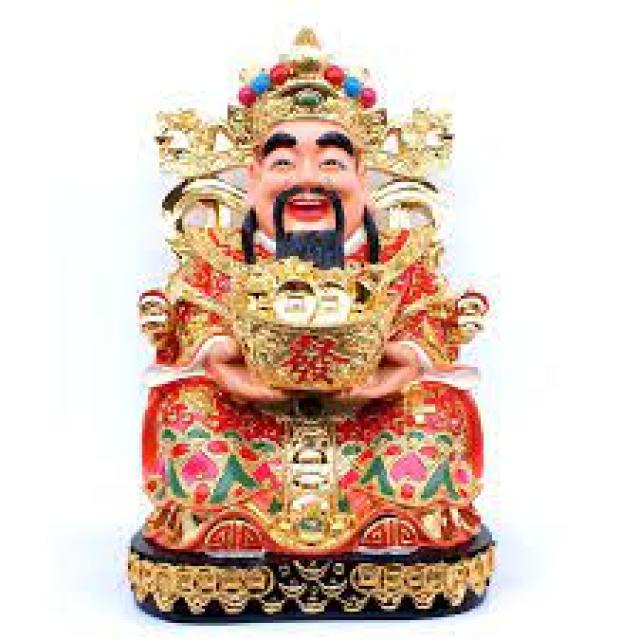Cai shen: (144, 23, 458, 520)
